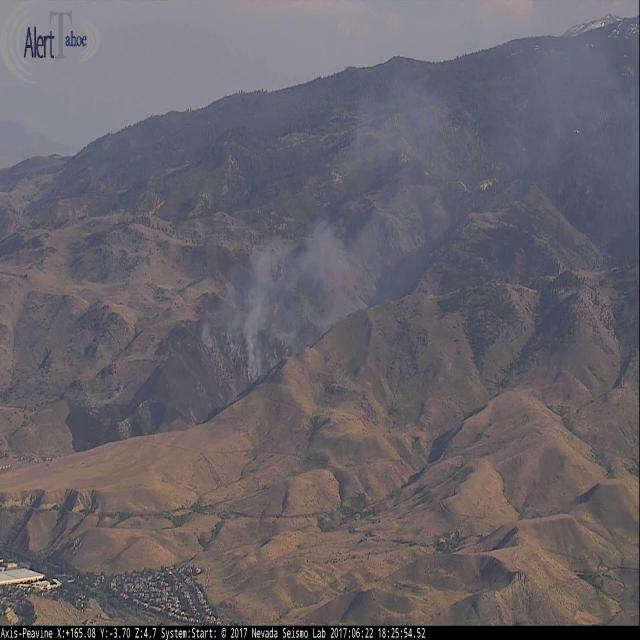smoke: (216, 0, 640, 428)
